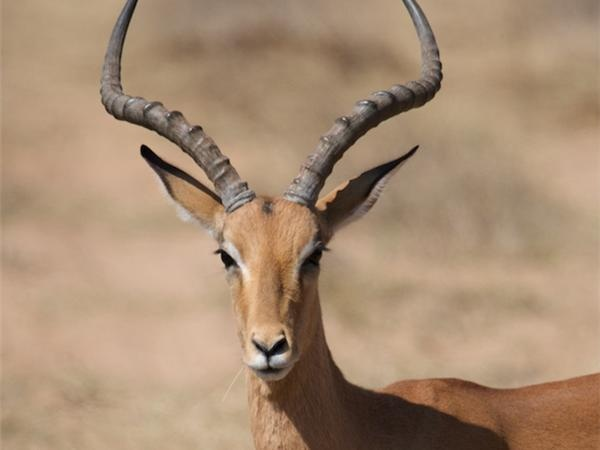impala: (95, 0, 600, 449)
